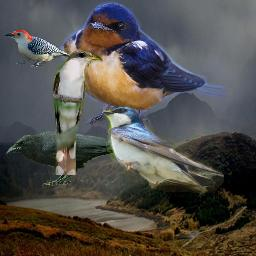Crow: (6, 131, 125, 186)
Cuckoo: (52, 49, 103, 175)
Swallow: (58, 1, 228, 131), (103, 106, 224, 197)
Woodpecker: (3, 30, 73, 68)
